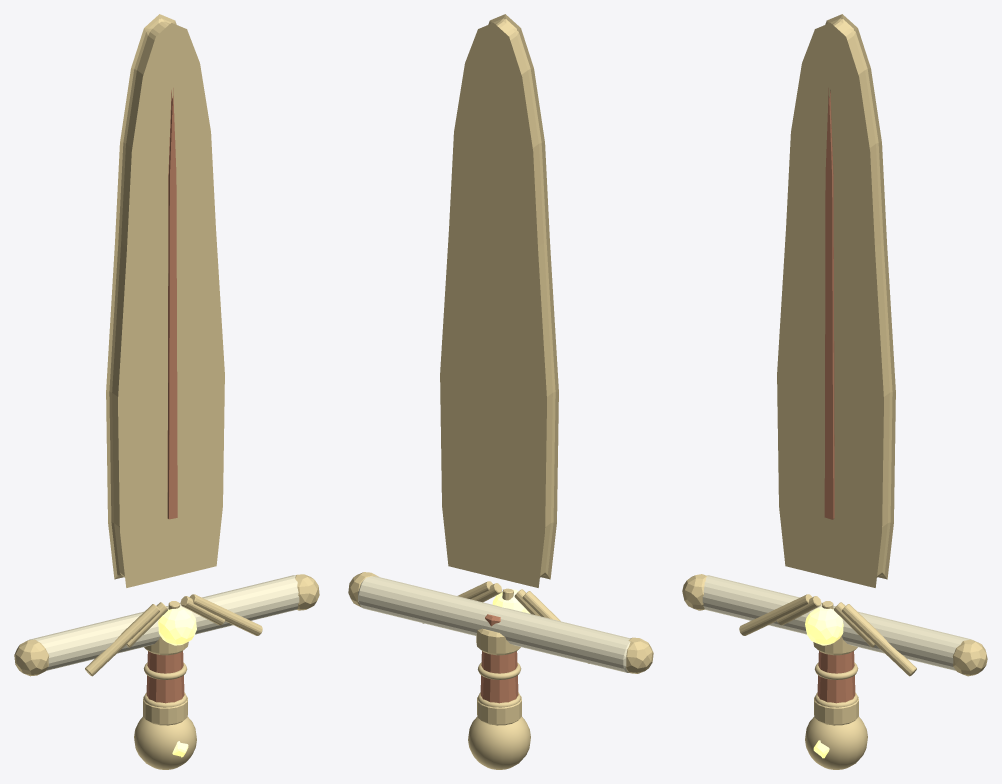
File: warrior-sword-01-sunforge.glb
3 views of the same model, side by side, from view 1: azimuth 30°, elevation 25°; view 2: azimuth 150°, elevation 25°; view 3: azimuth 330°, elevation 25° (orthographic).
Parts seen in each view (by area): view 1: warrior-sword-01-sunforge_ForgedBlade, warrior-sword-01-sunforge_Crossguard, warrior-sword-01-sunforge_ColoredFuller, warrior-sword-01-sunforge_Pommel, warrior-sword-01-sunforge_LeatherGrip, warrior-sword-01-sunforge_GuardGem, warrior-sword-01-sunforge_SunRay_1, warrior-sword-01-sunforge_GuardEnd_-1, warrior-sword-01-sunforge_SunRay_5, warrior-sword-01-sunforge_LowerFerrule, warrior-sword-01-sunforge_GuardEnd_1; view 2: warrior-sword-01-sunforge_ForgedBlade, warrior-sword-01-sunforge_Crossguard, warrior-sword-01-sunforge_Pommel, warrior-sword-01-sunforge_LeatherGrip, warrior-sword-01-sunforge_LowerFerrule, warrior-sword-01-sunforge_GuardEnd_-1, warrior-sword-01-sunforge_UpperFerrule; view 3: warrior-sword-01-sunforge_ForgedBlade, warrior-sword-01-sunforge_Crossguard, warrior-sword-01-sunforge_ColoredFuller, warrior-sword-01-sunforge_Pommel, warrior-sword-01-sunforge_LeatherGrip, warrior-sword-01-sunforge_GuardGem, warrior-sword-01-sunforge_SunRay_5, warrior-sword-01-sunforge_GuardEnd_1, warrior-sword-01-sunforge_SunRay_1, warrior-sword-01-sunforge_LowerFerrule, warrior-sword-01-sunforge_GuardEnd_-1.
Boxes of the visible parts, x1,y1,x2,y2 form: warrior-sword-01-sunforge_ForgedBlade: (106, 14, 224, 587); warrior-sword-01-sunforge_Crossguard: (28, 575, 299, 670); warrior-sword-01-sunforge_ColoredFuller: (167, 88, 177, 519); warrior-sword-01-sunforge_Pommel: (134, 716, 196, 769); warrior-sword-01-sunforge_LeatherGrip: (146, 651, 184, 703); warrior-sword-01-sunforge_GuardGem: (158, 606, 196, 645); warrior-sword-01-sunforge_SunRay_1: (85, 604, 159, 676); warrior-sword-01-sunforge_GuardEnd_-1: (14, 639, 48, 676); warrior-sword-01-sunforge_SunRay_5: (189, 594, 262, 635); warrior-sword-01-sunforge_LowerFerrule: (143, 696, 187, 725); warrior-sword-01-sunforge_GuardEnd_1: (295, 574, 319, 610); warrior-sword-01-sunforge_ForgedBlade: (440, 14, 558, 587); warrior-sword-01-sunforge_Crossguard: (358, 576, 630, 672); warrior-sword-01-sunforge_Pommel: (468, 717, 530, 769); warrior-sword-01-sunforge_LeatherGrip: (480, 614, 518, 703); warrior-sword-01-sunforge_LowerFerrule: (477, 696, 521, 725); warrior-sword-01-sunforge_GuardEnd_-1: (626, 637, 653, 673); warrior-sword-01-sunforge_UpperFerrule: (476, 628, 520, 655); warrior-sword-01-sunforge_ForgedBlade: (777, 14, 895, 587); warrior-sword-01-sunforge_Crossguard: (702, 575, 974, 670); warrior-sword-01-sunforge_ColoredFuller: (824, 88, 834, 519); warrior-sword-01-sunforge_Pommel: (805, 716, 867, 769); warrior-sword-01-sunforge_LeatherGrip: (817, 651, 855, 703); warrior-sword-01-sunforge_GuardGem: (805, 607, 843, 645); warrior-sword-01-sunforge_SunRay_5: (842, 604, 916, 676); warrior-sword-01-sunforge_GuardEnd_1: (953, 639, 987, 676); warrior-sword-01-sunforge_SunRay_1: (739, 594, 812, 635); warrior-sword-01-sunforge_LowerFerrule: (814, 696, 858, 725); warrior-sword-01-sunforge_GuardEnd_-1: (682, 574, 707, 610).
Size of the model in its own units: 0.7015 by 1.67 by 0.15.
